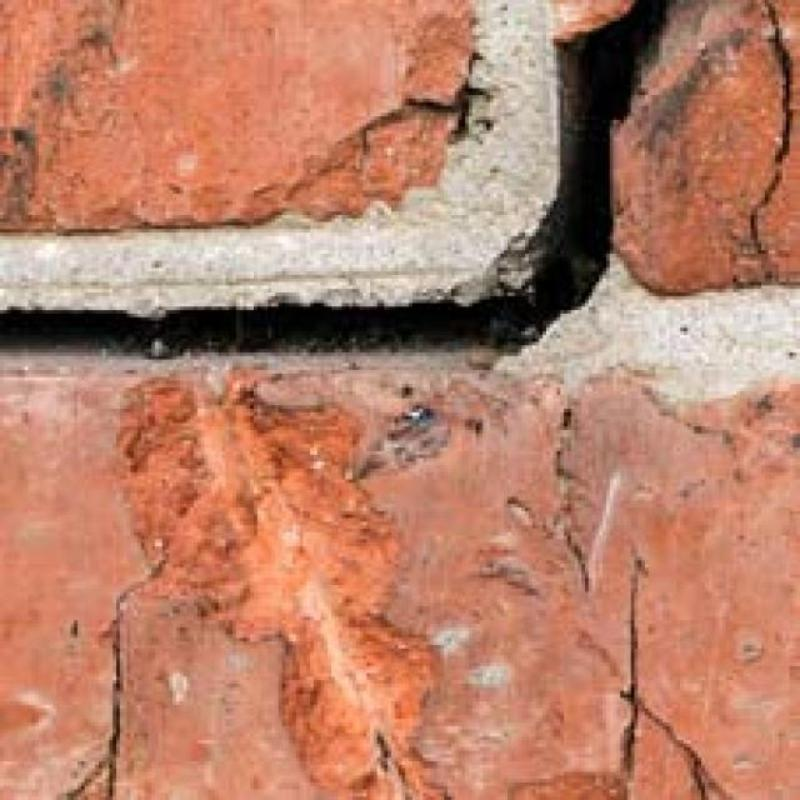pothole: (0, 0, 666, 358), (617, 533, 740, 799), (57, 549, 169, 799), (752, 0, 792, 280)
